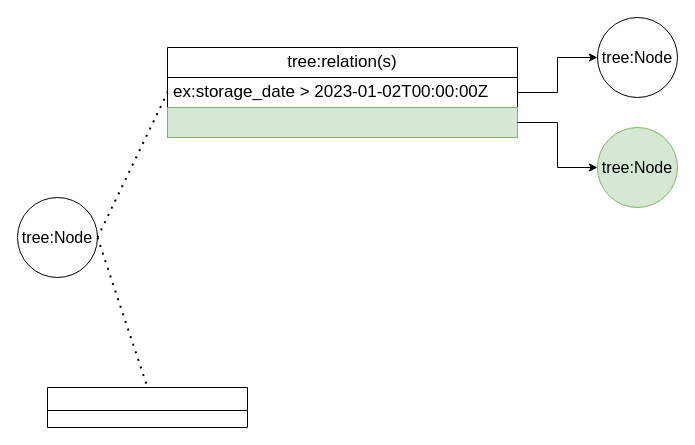
This 695x445 diagram has some shape labels left out. The shapes that lost their labels are listed below. From the top down, each one's centre as x and y in pixels, then its label:
At point (342, 122): "ex:storage_date < 2023-01-02T00:00:00Z".
At point (147, 407): "rest of the triples".
